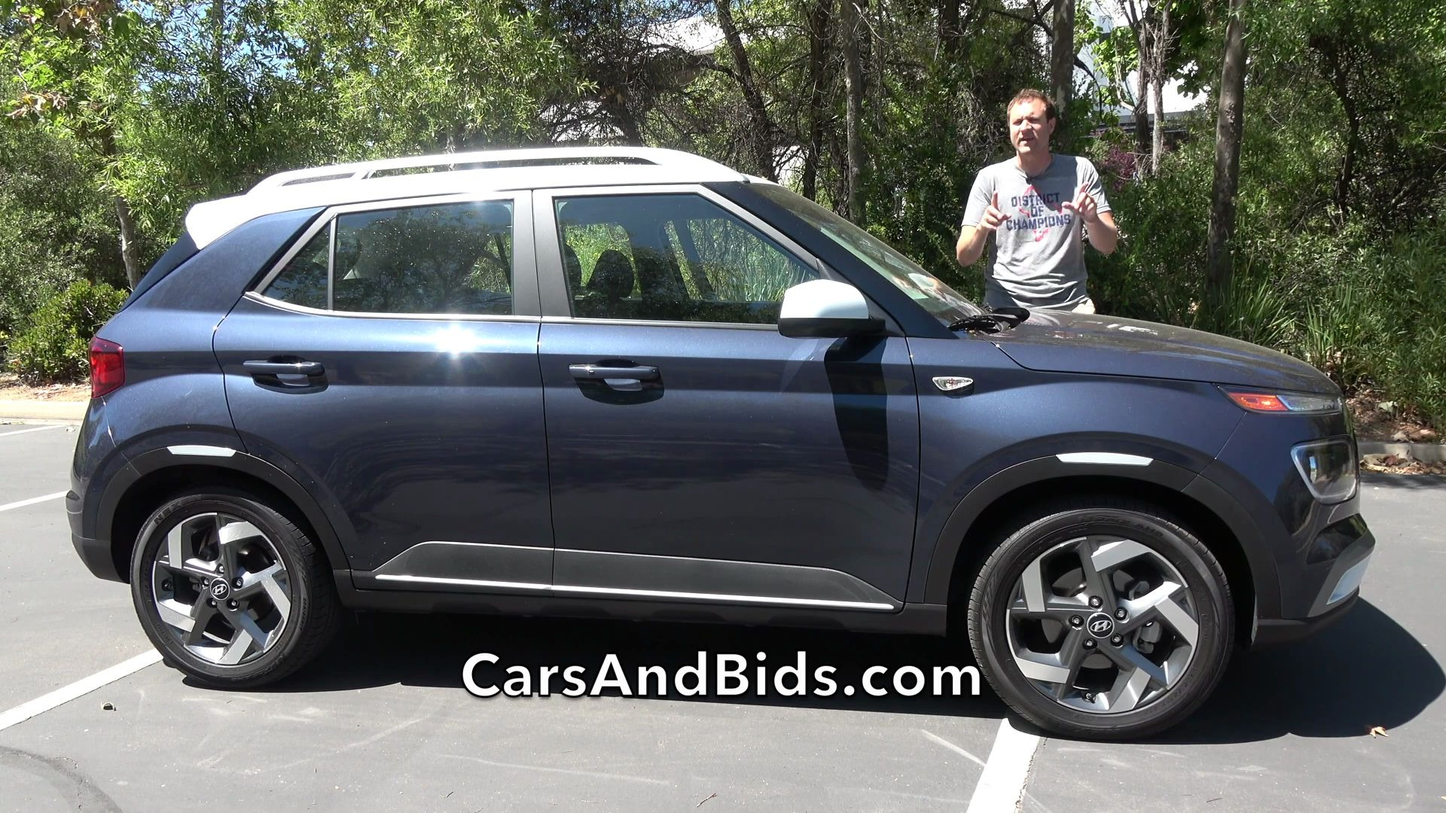other: (60, 146, 1376, 732)
